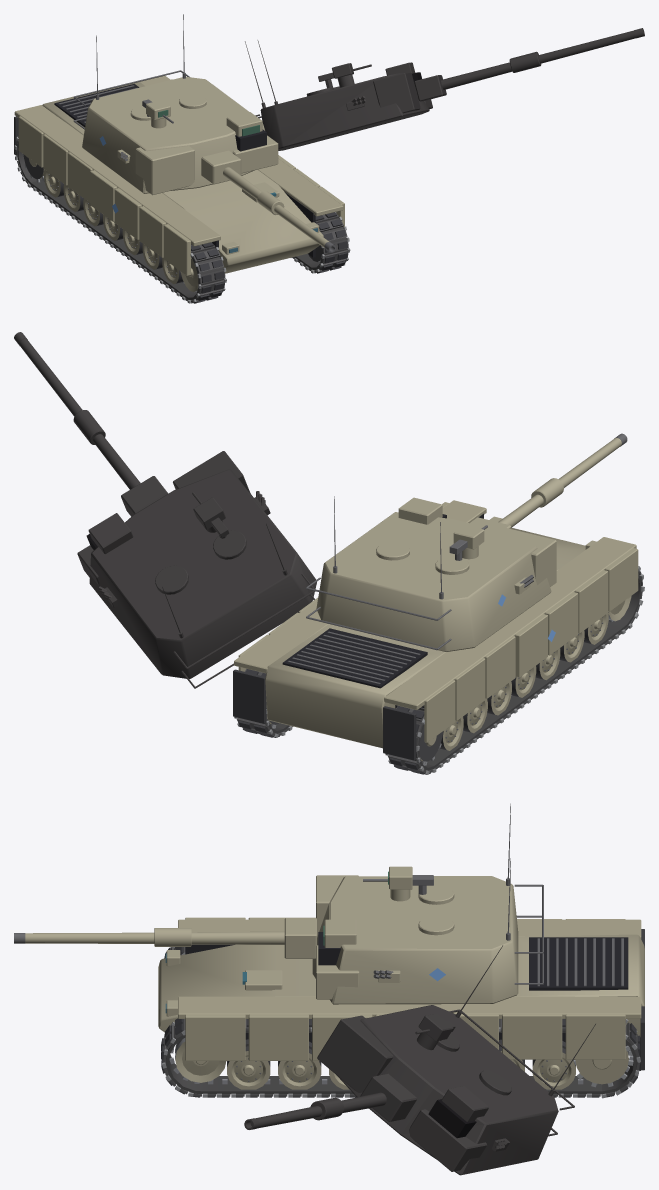
Rendered from tank__arjun_mk1.glb.
3 views of the same model, one above another, from view 1: azimuth 30°, elevation 25°; view 2: azimuth 150°, elevation 25°; view 3: azimuth 270°, elevation 25° (orthographic). The views are drawn at different scales.
Parts seen in each view (by area): view 1: Hull_Mesh, Turret_Mesh, Wreck, Track_L_Mesh, Gun_Mesh, Track_R_Mesh, Gunner_Sight_Mesh, CITV_Mesh; view 2: Hull_Mesh, Wreck, Turret_Mesh, Track_L_Mesh, Gun_Mesh, Gunner_Sight_Mesh, Track_R_Mesh, CITV_Mesh; view 3: Hull_Mesh, Wreck, Turret_Mesh, Track_R_Mesh, Gun_Mesh, Sprocket_R_Mesh, Wheel_R6_Mesh, Wheel_R0_Mesh, Wheel_R5_Mesh, Idler_R_Mesh, Gunner_Sight_Mesh, CITV_Mesh (+2 smaller).
Boxes of the visible parts, bbox=[...] form: Hull_Mesh: bbox=[14, 75, 344, 275]; Turret_Mesh: bbox=[73, 70, 278, 195]; Wreck: bbox=[245, 28, 644, 150]; Track_L_Mesh: bbox=[14, 136, 226, 303]; Gun_Mesh: bbox=[201, 150, 335, 252]; Track_R_Mesh: bbox=[291, 212, 350, 273]; Gunner_Sight_Mesh: bbox=[226, 112, 262, 136]; CITV_Mesh: bbox=[146, 100, 170, 128]; Hull_Mesh: bbox=[233, 500, 638, 760]; Wreck: bbox=[14, 332, 425, 763]; Turret_Mesh: bbox=[306, 512, 556, 651]; Track_L_Mesh: bbox=[385, 566, 644, 774]; Gun_Mesh: bbox=[470, 433, 627, 531]; Gunner_Sight_Mesh: bbox=[398, 497, 442, 524]; Track_R_Mesh: bbox=[234, 668, 292, 737]; CITV_Mesh: bbox=[453, 525, 484, 559]; Hull_Mesh: bbox=[158, 917, 644, 1070]; Wreck: bbox=[244, 945, 595, 1175]; Turret_Mesh: bbox=[312, 875, 543, 1004]; Track_R_Mesh: bbox=[161, 1018, 640, 1098]; Gun_Mesh: bbox=[14, 917, 316, 958]; Sprocket_R_Mesh: bbox=[573, 1043, 633, 1087]; Wheel_R6_Mesh: bbox=[227, 1039, 270, 1089]; Wheel_R0_Mesh: bbox=[532, 1041, 575, 1089]; Wheel_R5_Mesh: bbox=[278, 1041, 321, 1089]; Idler_R_Mesh: bbox=[175, 1037, 226, 1082]; Gunner_Sight_Mesh: bbox=[323, 919, 356, 947]; CITV_Mesh: bbox=[388, 866, 412, 901].
Size of what is drawn, in the model's own units: 11.62 by 3.93 by 10.16.
